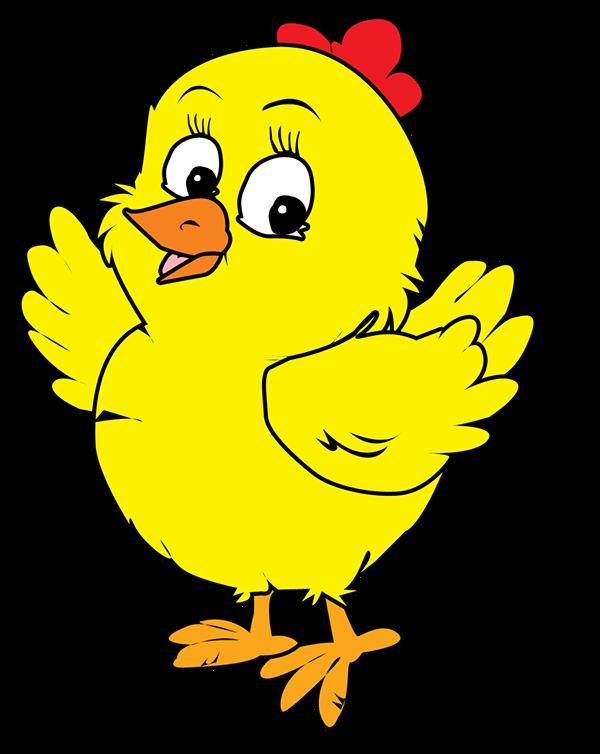bird: (25, 8, 543, 738)
